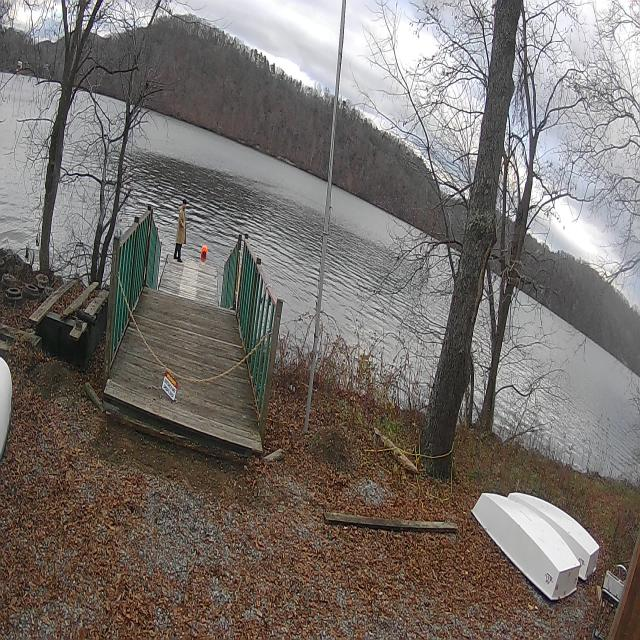Buoy: (200, 242, 208, 264)
